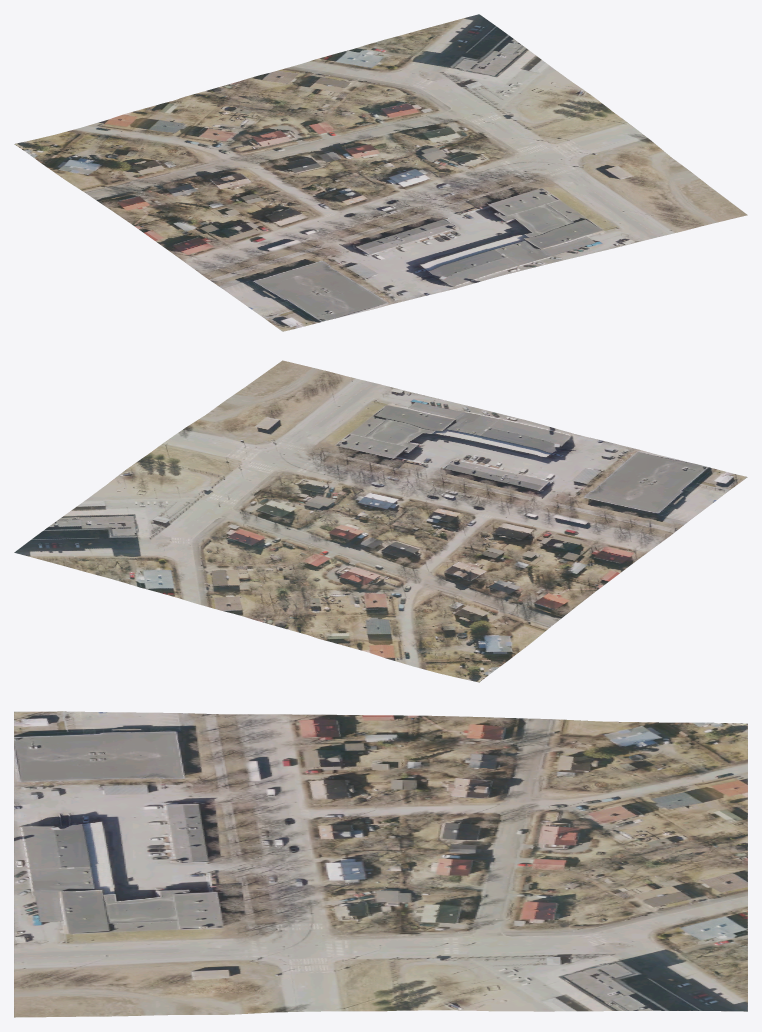
File: CM_Terrain_24488615_6819180.fbx
3 renders of one model, top to bottom at view 1: azimuth 30°, elevation 25°; view 2: azimuth 150°, elevation 25°; view 3: azimuth 270°, elevation 25°, orthographic. The views are drawn at different scales.
Parts seen in each view (by area): view 1: CM_Terrain_24488615_6819180_LOD0; view 2: CM_Terrain_24488615_6819180_LOD0; view 3: CM_Terrain_24488615_6819180_LOD0.
Part boxes in pixels (x1=…): CM_Terrain_24488615_6819180_LOD0: x1=14, y1=14, x2=747, y2=331; CM_Terrain_24488615_6819180_LOD0: x1=14, y1=360, x2=747, y2=682; CM_Terrain_24488615_6819180_LOD0: x1=14, y1=711, x2=747, y2=1017.
Size of what is drawn, in the model's own units: 205 by 8.02 by 205.
